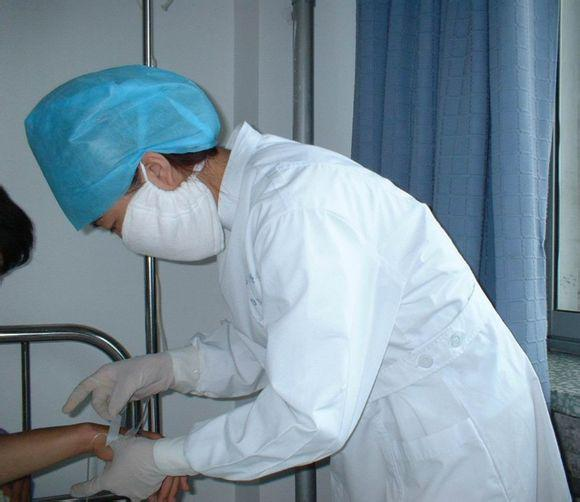OK: (93, 138, 226, 271)
